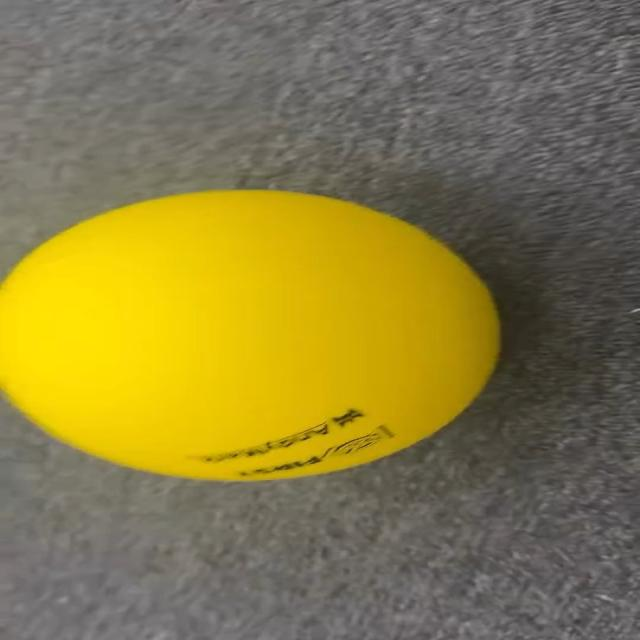Fuels: (3, 193, 502, 478)
